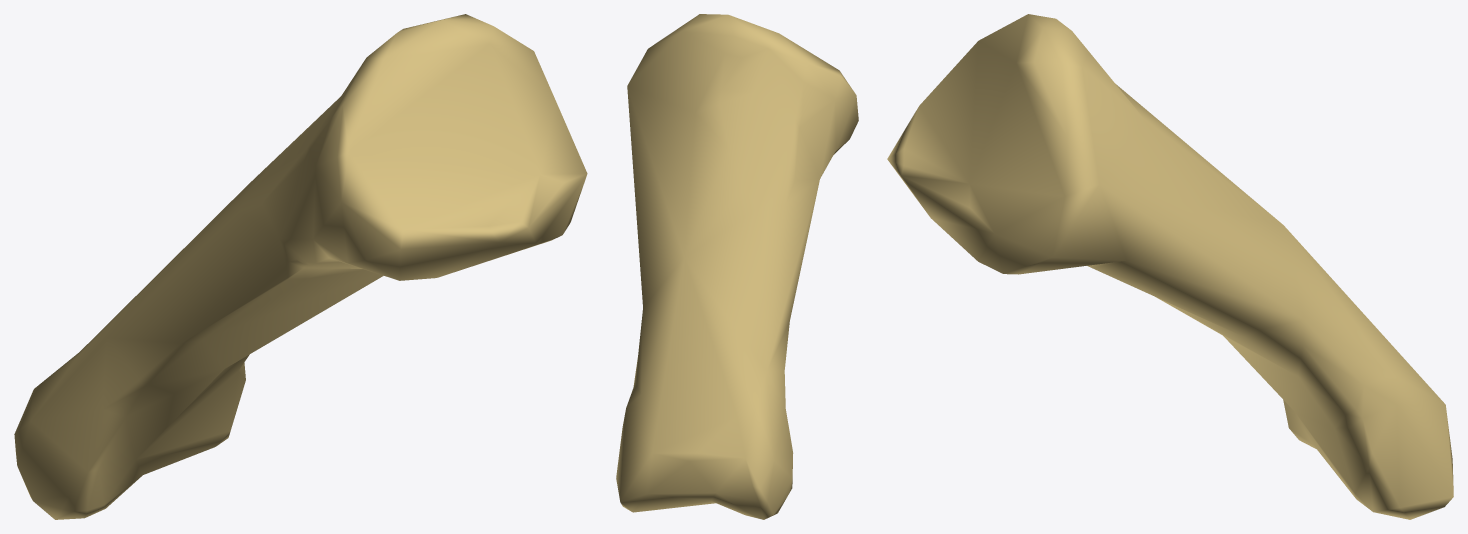
The picture shows the model from 3 angles, left to right: view 1: azimuth 30°, elevation 25°; view 2: azimuth 150°, elevation 25°; view 3: azimuth 270°, elevation 25°; orthographic projection. The views are drawn at different scales.
Parts seen in each view (by area): view 1: 右侧第二指中节指骨; view 2: 右侧第二指中节指骨; view 3: 右侧第二指中节指骨.
Boxes of the visible parts, x1,y1,x2,y2 form: 右侧第二指中节指骨: [14, 14, 587, 519]; 右侧第二指中节指骨: [616, 14, 858, 519]; 右侧第二指中节指骨: [887, 14, 1453, 519].
Size of the model in its own units: 0.0223 by 0.0319 by 0.0314.
